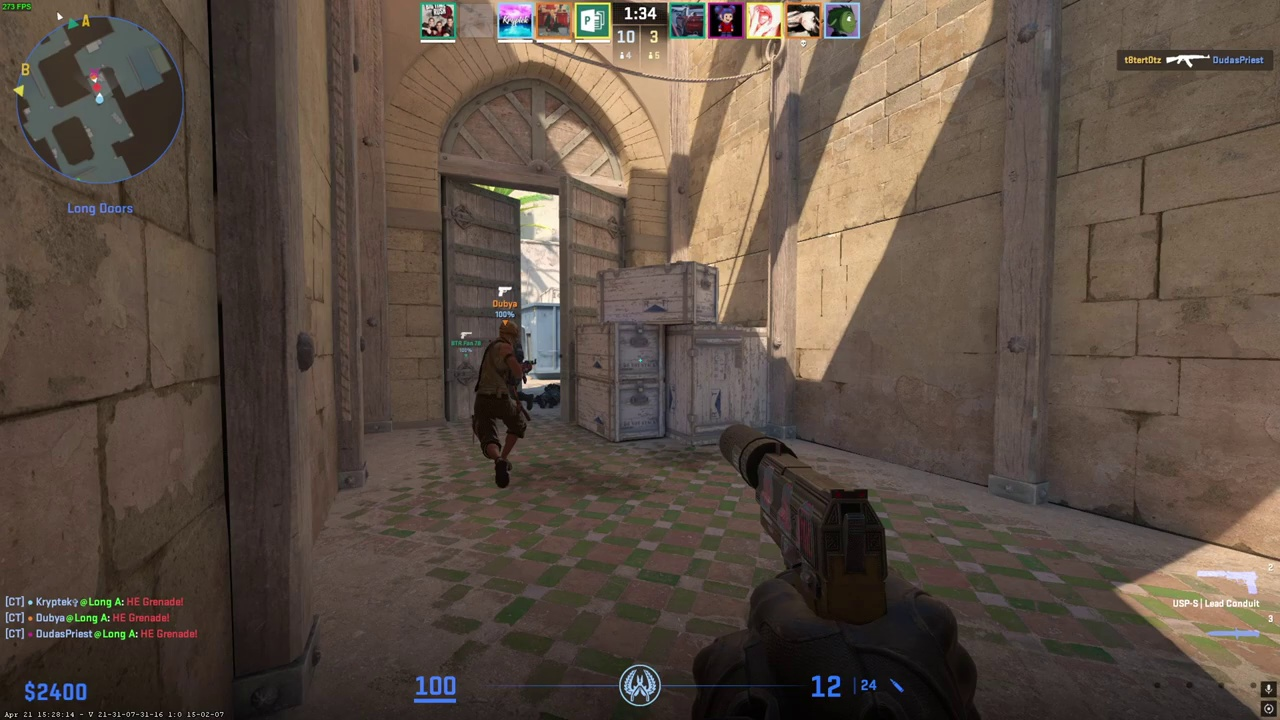Terrorist: (472, 321, 530, 489)
